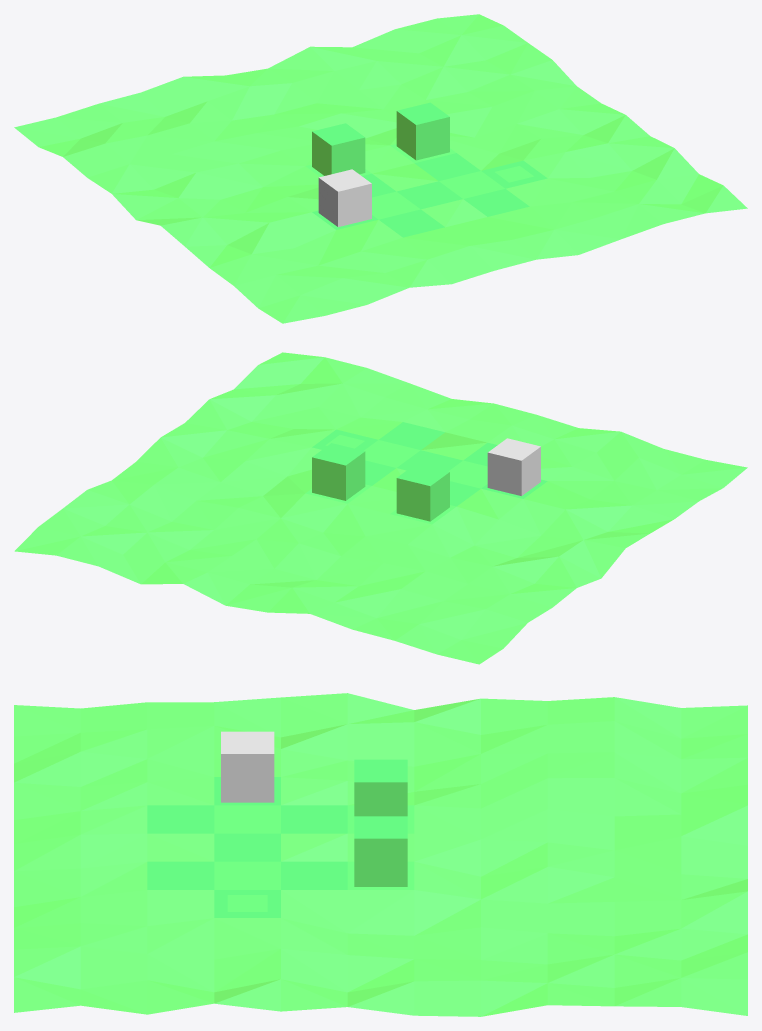
File: Level46.dae
3 views of the same model, one above another, from view 1: azimuth 30°, elevation 25°; view 2: azimuth 150°, elevation 25°; view 3: azimuth 270°, elevation 25° (orthographic). The views are drawn at different scales.
Visible parts, largest first — view 1: surface, Blocky, Enemy1, Enemy0; view 2: surface, Blocky, Enemy0, Enemy1; view 3: surface, Blocky, Enemy1, Enemy0.
Boxes of the visible parts, box(x1,y1,x2,y2) form: surface: box(14, 14, 747, 323); Blocky: box(318, 169, 371, 226); Enemy1: box(396, 102, 449, 160); Enemy0: box(312, 123, 365, 175); surface: box(14, 352, 747, 664); Blocky: box(487, 438, 540, 495); Enemy0: box(396, 463, 449, 521); Enemy1: box(312, 443, 365, 500); surface: box(14, 693, 747, 1016); Blocky: box(221, 731, 274, 802); Enemy1: box(354, 816, 407, 886); Enemy0: box(354, 759, 407, 816).
Size of the model in its own units: 11 by 11 by 1.1.
